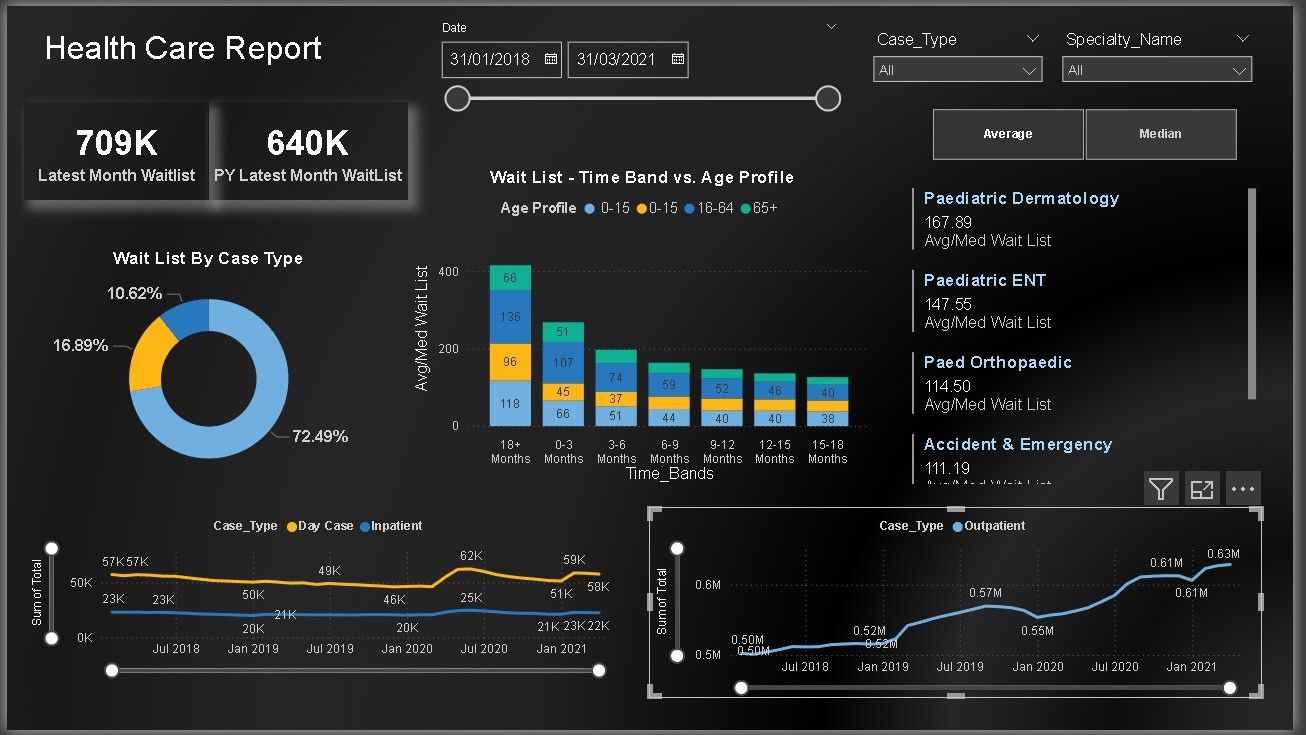

The dashboard page shown, as its layout file describes it:
{"tool":"powerbi","page":{"name":"Summary","canvas":[1280,720],"ordinal":0},"visuals":[{"type":"card","fields":{"Values":["All Data.Latest Month Waitlist"]},"box":[15.9,95.4,184.5,97],"z":0},{"type":"card","fields":{"Values":["All Data.PY Latest Month WaitList"]},"box":[200.4,95.4,198.8,97],"z":1000},{"type":"slicer","fields":{"Values":["Calculation Method.Calc Method"]},"box":[896,96,352,64],"z":2000},{"type":"donutChart","title":"Wait List By Case Type","fields":{"Category":["All Data.Case_Type"],"Y":["All Data.Avg/Med Wait List"]},"box":[16,240,368,240],"z":3000},{"type":"columnChart","title":"Wait List - Time Band vs. Age Profile","fields":{"Y":["All Data.Avg/Med Wait List"],"Category":["All Data.Time_Bands"],"Series":["All Data.Age_Profile"]},"box":[400,160,464,320],"z":4000},{"type":"multiRowCard","fields":{"Values":["All Data.Avg/Med Wait List","All Data.Specialty_Name"]},"box":[896,176,352,304],"z":5000},{"type":"lineChart","fields":{"Category":["All Data._Archive_Date"],"Y":["Sum(All Data.Total)"],"Series":["All Data.Case_Type"]},"box":[15.9,497.9,591.7,173.4],"z":6000},{"type":"lineChart","fields":{"Category":["All Data._Archive_Date"],"Y":["Sum(All Data.Total)"],"Series":["All Data.Case_Type"]},"box":[639.4,497.9,609.2,190.9],"z":7000},{"type":"slicer","fields":{"Values":["All Data._Archive_Date"]},"box":[419.9,9.5,418.3,98.6],"z":8000},{"type":"slicer","fields":{"Values":["All Data.Case_Type"]},"box":[852.6,19.1,187.7,79.5],"z":9000},{"type":"slicer","fields":{"Values":["All Data.Specialty_Name"]},"box":[1040.3,19.1,208.4,79.5],"z":10000},{"type":"textbox","box":[31.8,15.9,297.4,79.5],"z":11000}]}

Visuals, with their boxes in screenshot pixels (x1, y1, x2, y2), scaled from the page's 1280x720 canvas onto the 1306x735 screenshot:
card - All Data.Latest Month Waitlist: x1=16 y1=97 x2=204 y2=196
card - All Data.PY Latest Month WaitList: x1=204 y1=97 x2=407 y2=196
slicer - Calculation Method.Calc Method: x1=914 y1=98 x2=1273 y2=163
"Wait List By Case Type" donutChart: x1=16 y1=245 x2=392 y2=490
"Wait List - Time Band vs. Age Profile" columnChart: x1=408 y1=163 x2=882 y2=490
multiRowCard - All Data.Avg/Med Wait List x All Data.Specialty_Name: x1=914 y1=180 x2=1273 y2=490
lineChart - All Data._Archive_Date x Sum(All Data.Total): x1=16 y1=508 x2=620 y2=685
lineChart - All Data._Archive_Date x Sum(All Data.Total): x1=652 y1=508 x2=1274 y2=703
slicer - All Data._Archive_Date: x1=428 y1=10 x2=855 y2=110
slicer - All Data.Case_Type: x1=870 y1=19 x2=1061 y2=101
slicer - All Data.Specialty_Name: x1=1061 y1=19 x2=1274 y2=101
textbox: x1=32 y1=16 x2=336 y2=97
